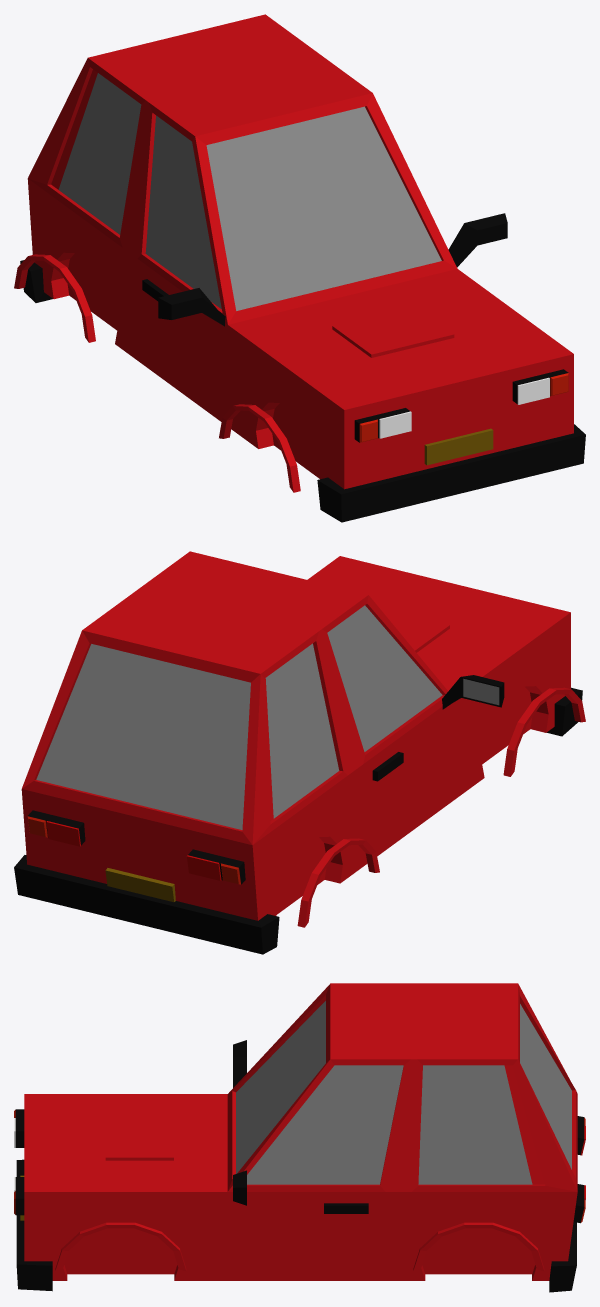
File: CarR.obj
3 views of the same model, one above another, from view 1: azimuth 30°, elevation 25°; view 2: azimuth 150°, elevation 25°; view 3: azimuth 270°, elevation 25° (orthographic). The views are drawn at different scales.
Parts seen in each view (by area): view 1: Car_Body, Back, Front; view 2: Car_Body, Front, Back; view 3: Car_Body, Front, Back.
Boxes of the visible parts, box(x1,y1,x2,y2) form: Car_Body: box(20, 14, 585, 522); Back: box(14, 254, 95, 342); Front: box(219, 404, 300, 492); Car_Body: box(14, 551, 582, 954); Front: box(503, 687, 585, 776); Back: box(297, 838, 379, 927); Car_Body: box(14, 983, 585, 1292); Front: box(55, 1222, 186, 1271); Back: box(413, 1222, 544, 1271).
Bounding box in the file's own units: 5.22 × 3.6 × 8.53.
